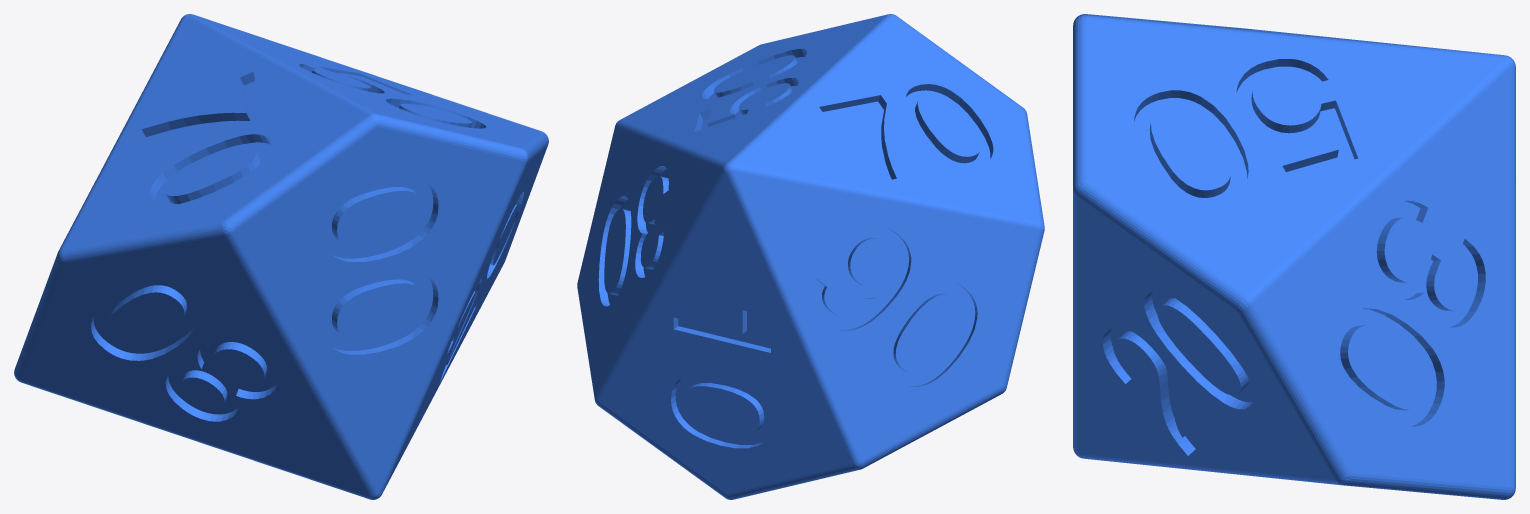
3 renders of one model, left to right at view 1: azimuth 30°, elevation 25°; view 2: azimuth 150°, elevation 25°; view 3: azimuth 270°, elevation 25°, orthographic. The views are drawn at different scales.
Size of the model in its own units: 16.23 by 13.33 by 11.11.
